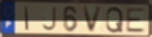6: (62, 5, 81, 33)
E: (125, 7, 147, 33)
I: (25, 6, 30, 32)
J: (41, 6, 58, 32)
Q: (105, 7, 124, 34)
V: (82, 6, 104, 34)
